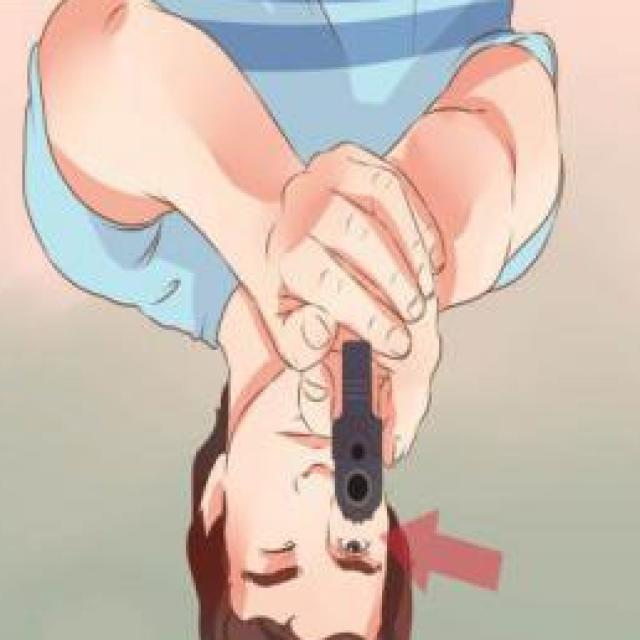pistol: (328, 338, 384, 528)
